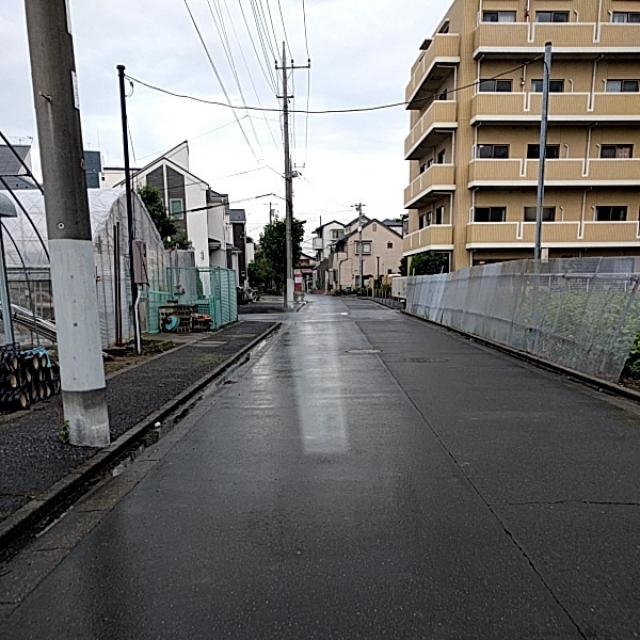pothole: (78, 467, 121, 521)
